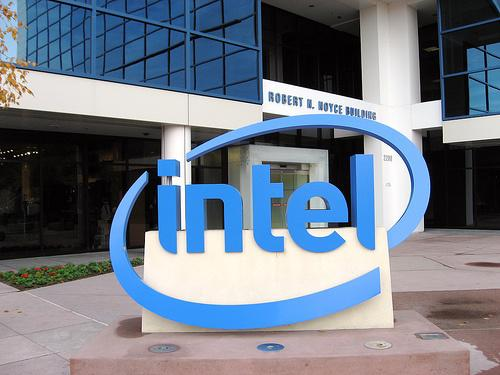Intel: (105, 112, 437, 333)
